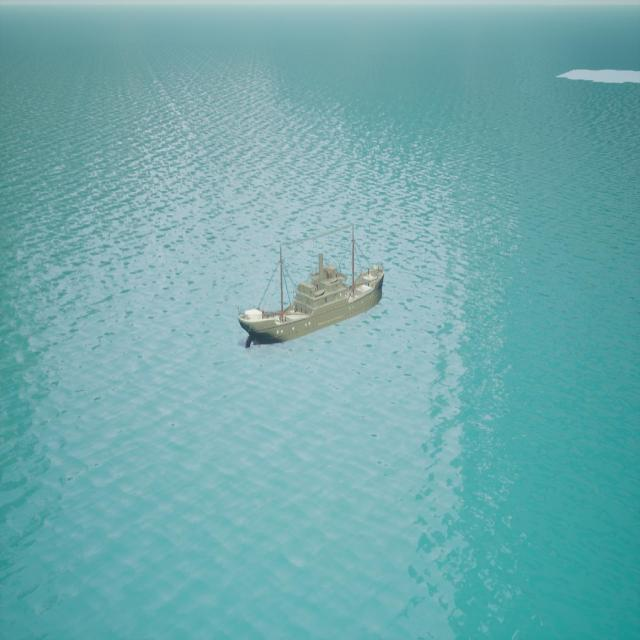fishing ship: (240, 255, 386, 348)
